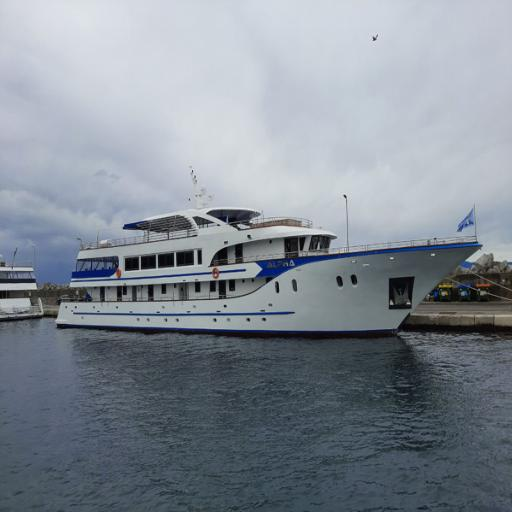cruises: (54, 199, 488, 349)
